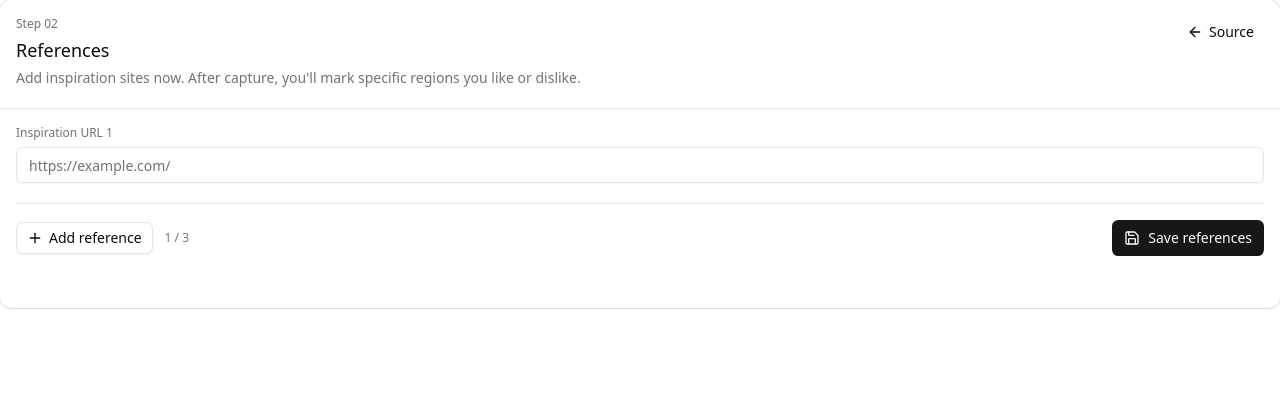
Test: References step › rejects normalized duplicate URLs
Click the button "Add reference" at (84,238), box 16,222 -> 153,254
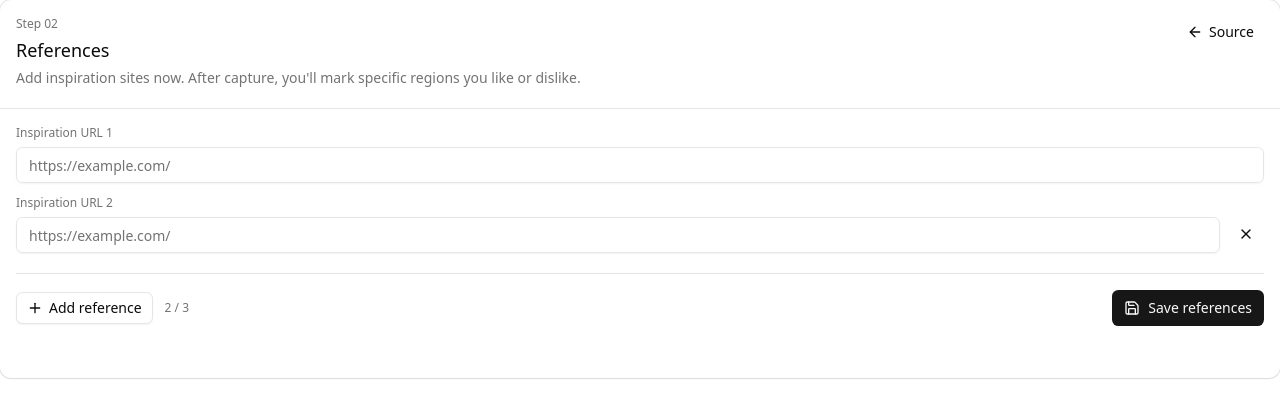
Type "https://EXAMPLE.com:443/path" into the field labelled "Inspiration URL 1" at (640,165), box 16,147 -> 1264,183
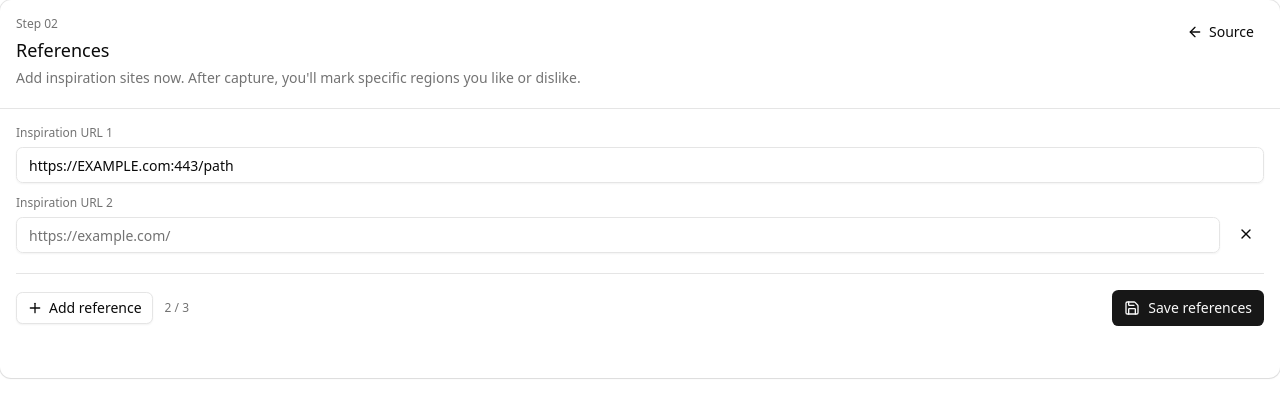
Type " https://example.com/path " into the field labelled "Inspiration URL 2" at (618,235), box 16,217 -> 1220,253
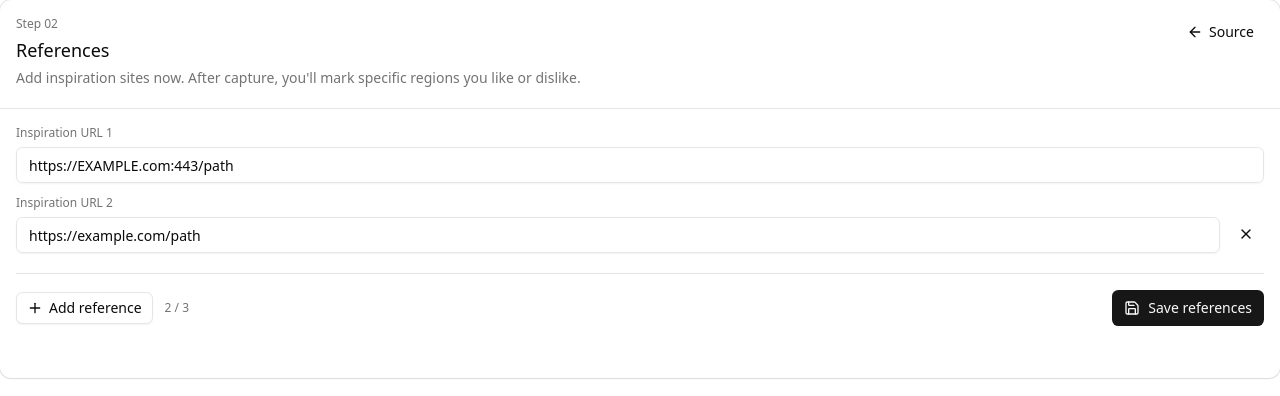
Click the button "Save references" at (1188,308), box 1112,290 -> 1264,326
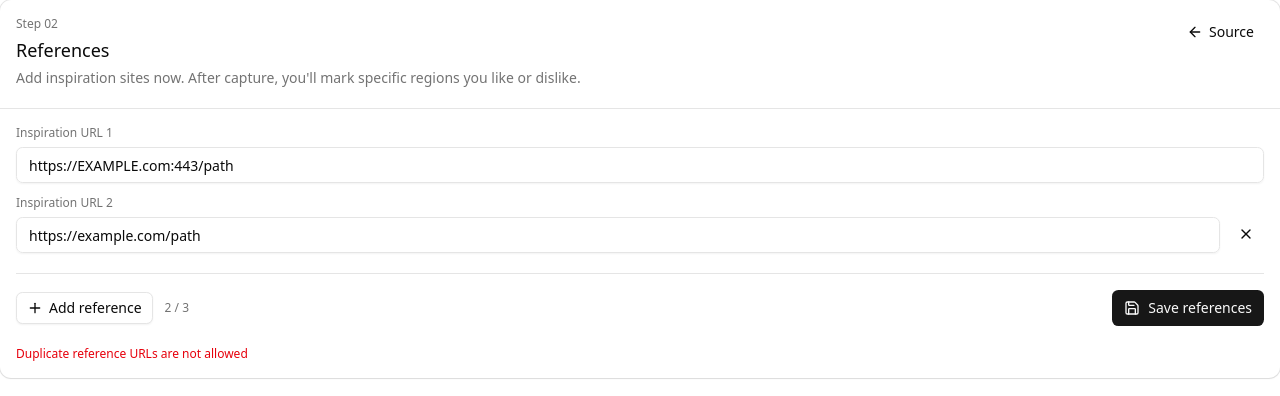
Check: the message shows "Duplicate reference URLs", box 16,345 -> 248,362
